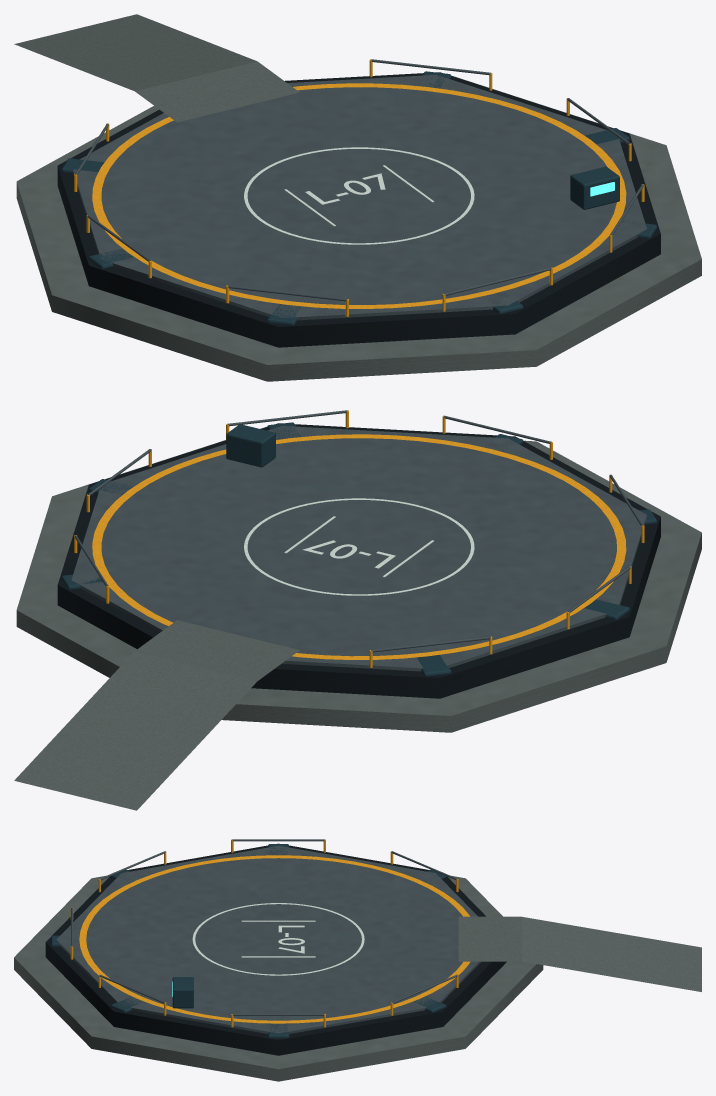
File: Plataforma.gltf
3 views of the same model, one above another, from view 1: azimuth 30°, elevation 25°; view 2: azimuth 150°, elevation 25°; view 3: azimuth 270°, elevation 25° (orthographic). The views are drawn at different scales.
Visible parts, largest first — view 1: Plataforma_Metal_gris, Plataforma_Hormigon, Plataforma_Acero_oscuro, Plataforma_Amarillo, Plataforma_Panel_azul, Plataforma_Blanco; view 2: Plataforma_Metal_gris, Plataforma_Hormigon, Plataforma_Acero_oscuro, Plataforma_Amarillo, Plataforma_Panel_azul, Plataforma_Blanco; view 3: Plataforma_Metal_gris, Plataforma_Hormigon, Plataforma_Acero_oscuro, Plataforma_Amarillo, Plataforma_Panel_azul, Plataforma_Blanco.
Boxes of the visible parts, <box> form: Plataforma_Metal_gris: <box>73,59,646,320</box>; Plataforma_Hormigon: <box>14,14,701,381</box>; Plataforma_Acero_oscuro: <box>57,72,660,347</box>; Plataforma_Amarillo: <box>74,59,644,316</box>; Plataforma_Panel_azul: <box>61,71,656,325</box>; Plataforma_Blanco: <box>244,147,474,244</box>; Plataforma_Metal_gris: <box>71,410,646,671</box>; Plataforma_Hormigon: <box>14,426,701,810</box>; Plataforma_Acero_oscuro: <box>57,423,660,698</box>; Plataforma_Amarillo: <box>74,410,644,667</box>; Plataforma_Panel_azul: <box>61,422,656,676</box>; Plataforma_Blanco: <box>244,498,474,595</box>; Plataforma_Metal_gris: <box>56,839,480,1033</box>; Plataforma_Hormigon: <box>14,875,701,1081</box>; Plataforma_Acero_oscuro: <box>45,843,506,1055</box>; Plataforma_Amarillo: <box>70,839,470,1027</box>; Plataforma_Panel_azul: <box>51,844,446,1038</box>; Plataforma_Blanco: <box>192,903,364,975</box>.
Bounding box in the file's own units: 50 × 5.15 × 65.
Materials: 7 (7 with a texture image).
